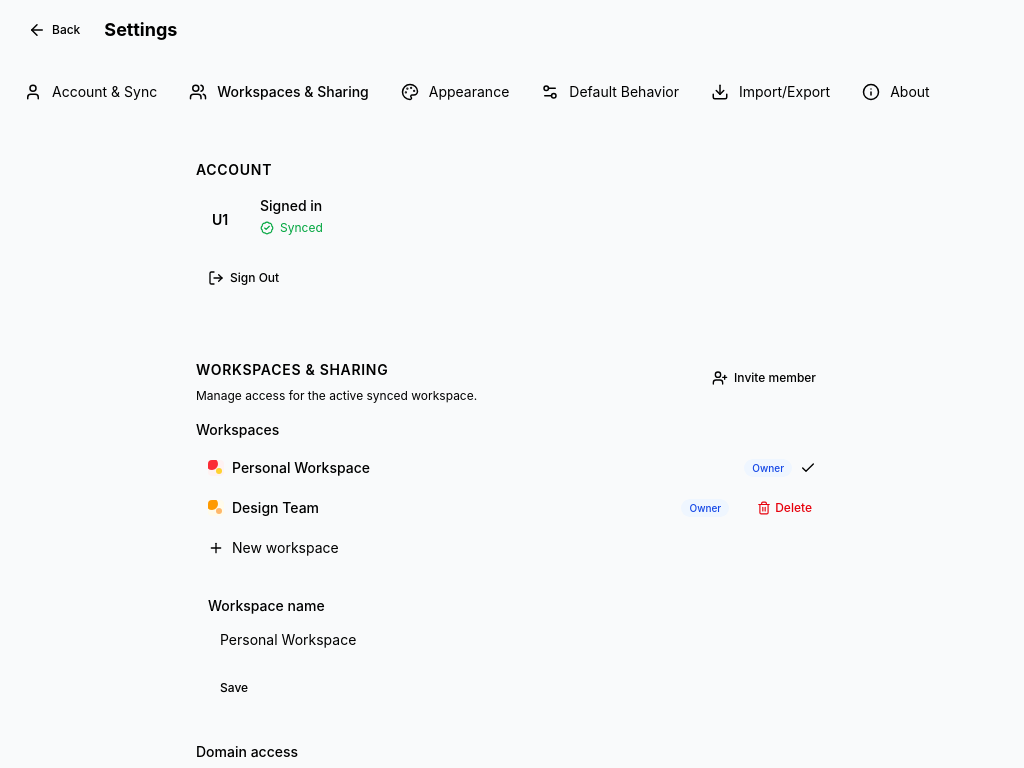
Scenario: SettingsScreen › allows owners to delete a non-personal workspace from sharing settings
Step 1. Click the button "Delete" → [785, 508], box [749,496,820,520]
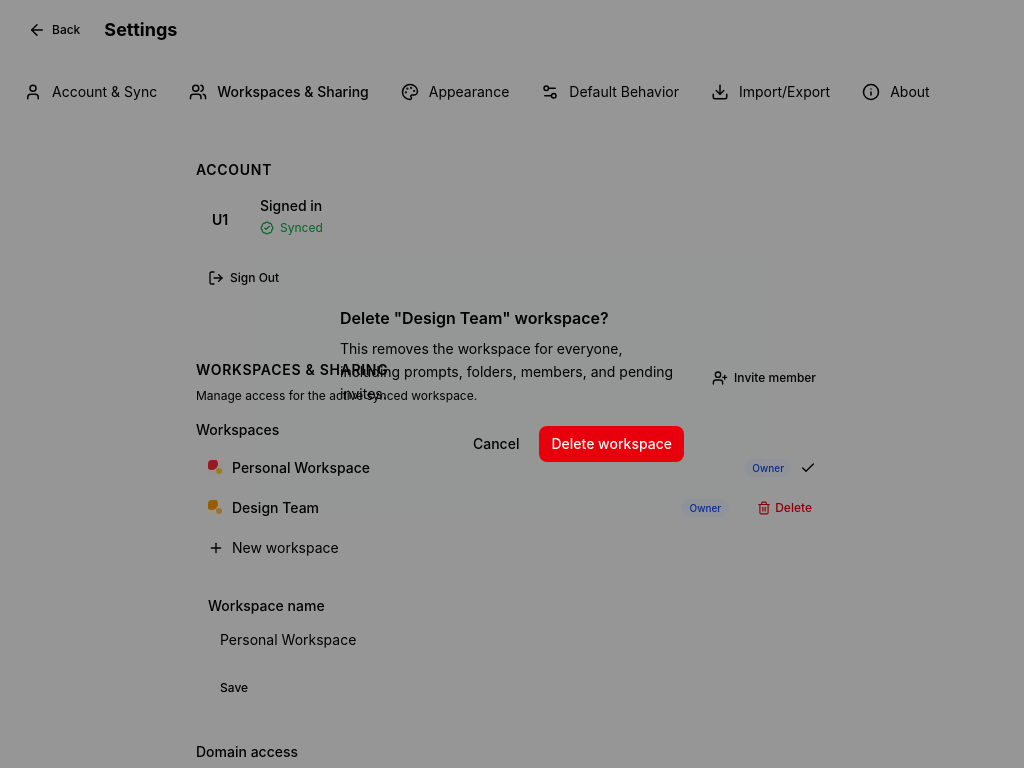
Now the dialog shows "Delete \"Design Team\" workspace?", box [340,308,609,328]
Step 2. Click the button "Delete workspace" → [612, 444], box [540,426,684,462]
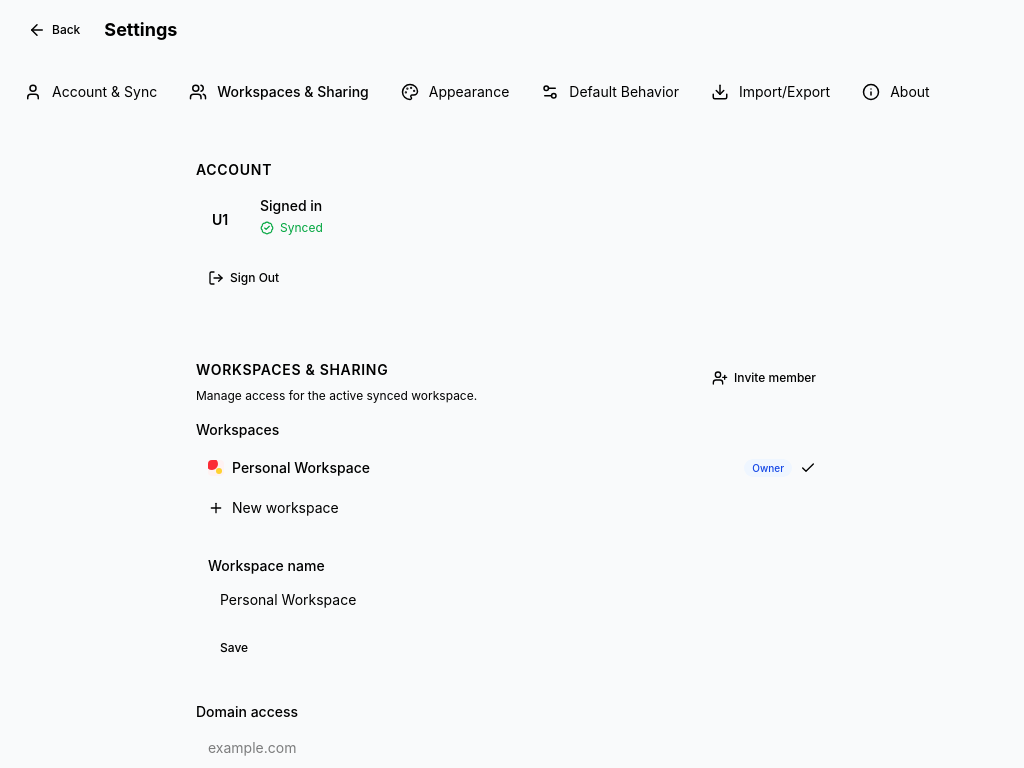
Now the button "Design Team" is gone
